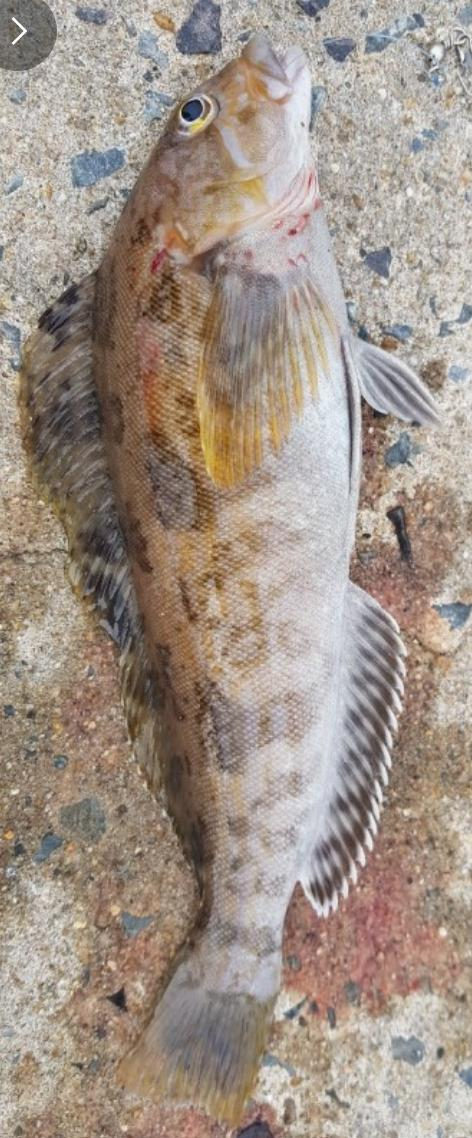fish: (20, 34, 437, 1123)
